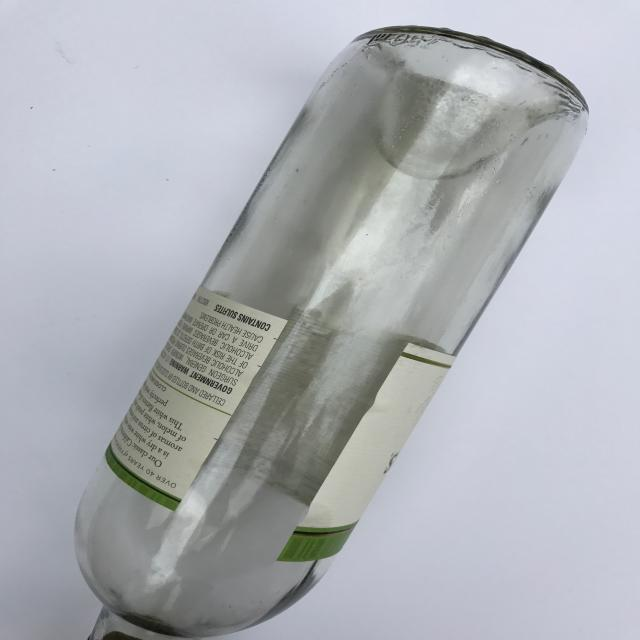glass: (69, 23, 591, 640)
